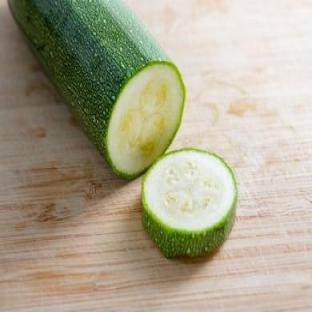Zucchini: (142, 149, 237, 257)
